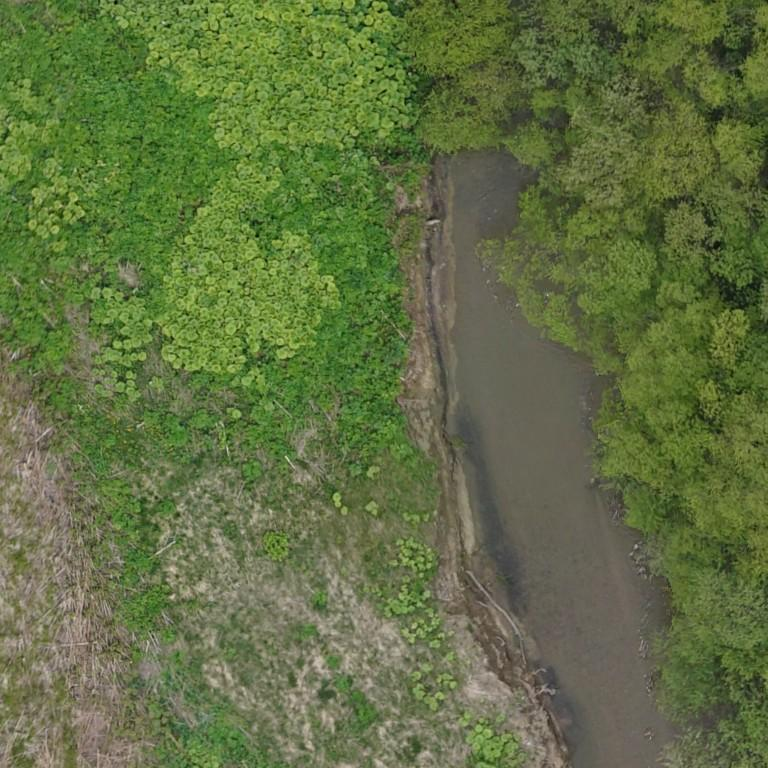hogweed: (267, 194, 407, 455), (118, 584, 170, 629), (249, 409, 291, 462), (142, 410, 191, 448), (126, 552, 153, 572), (182, 410, 209, 428)
